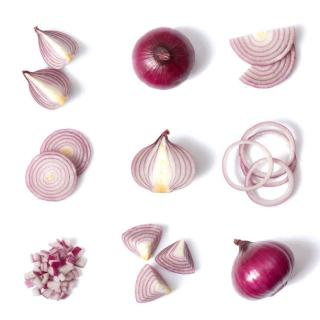Bawang Merah: (229, 235, 301, 301), (129, 128, 200, 194), (132, 26, 200, 93)
